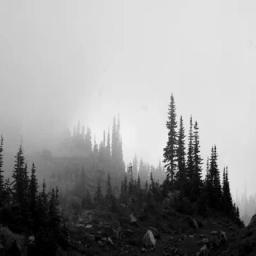Low smoke: (0, 0, 153, 212)
